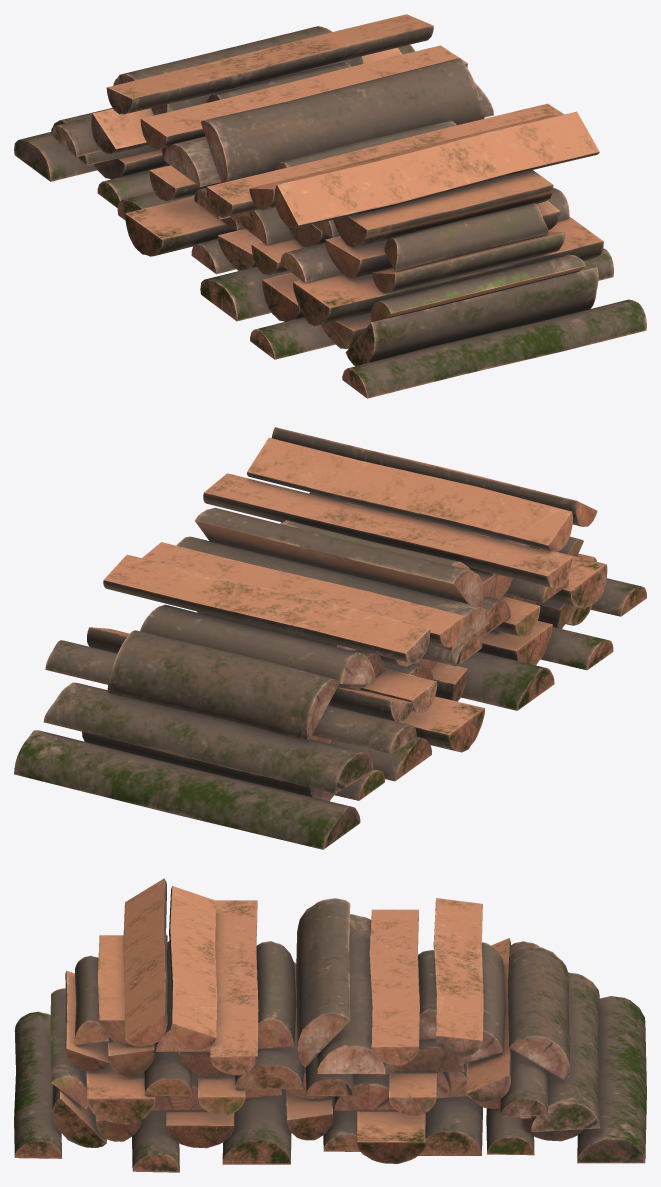
File: SM_PileOfWoodS1.fbx
3 views of the same model, one above another, from view 1: azimuth 30°, elevation 25°; view 2: azimuth 150°, elevation 25°; view 3: azimuth 270°, elevation 25° (orthographic). The views are drawn at different scales.
Visible parts, largest first — view 1: SM_PileOfWoodS1_LOD0; view 2: SM_PileOfWoodS1_LOD0; view 3: SM_PileOfWoodS1_LOD0.
Boxes of the visible parts, x1=… form: SM_PileOfWoodS1_LOD0: x1=14, y1=14, x2=646, y2=398; SM_PileOfWoodS1_LOD0: x1=14, y1=427, x2=646, y2=849; SM_PileOfWoodS1_LOD0: x1=14, y1=878, x2=646, y2=1172.
Bounding box in the file's own units: 78.24 × 132 × 34.94.
Materials: 1 (1 with a texture image).
